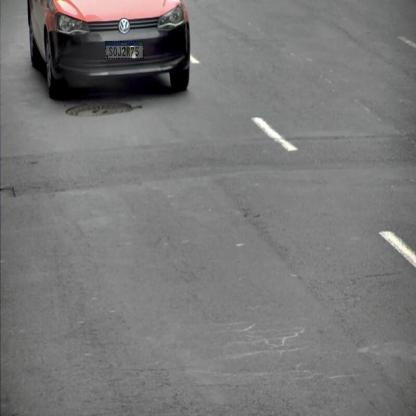PlacaM: (105, 41, 144, 59)
